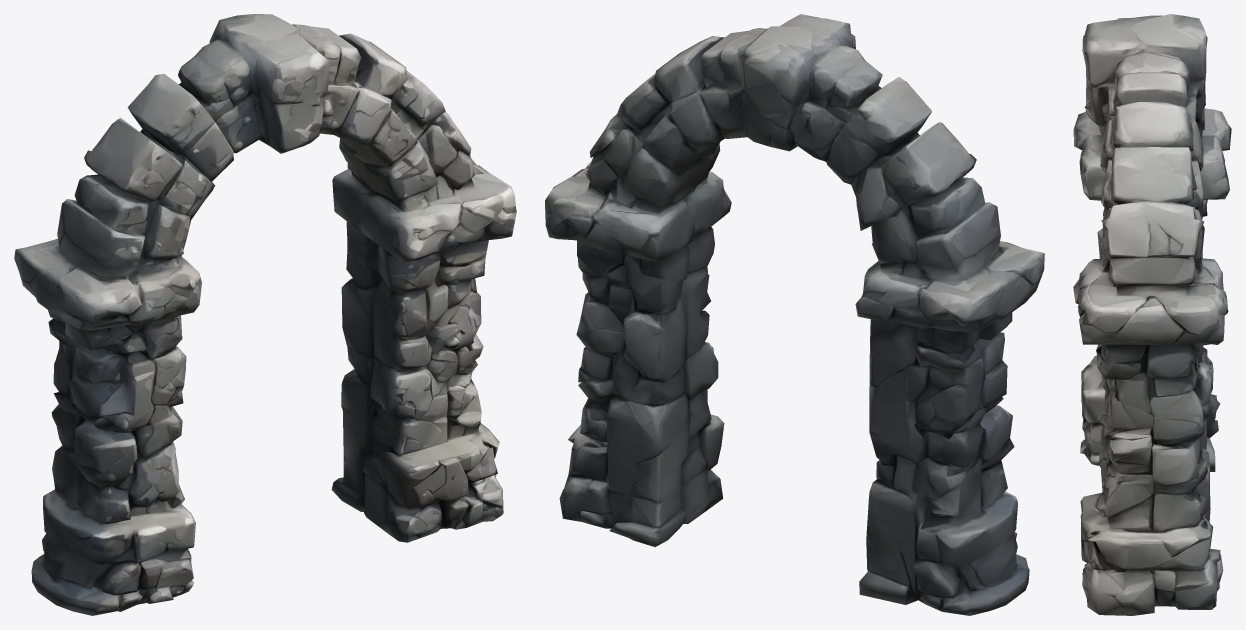
Rendered from doorframe_from_storm-proof.glb.
3 views of the same model, side by side, from view 1: azimuth 30°, elevation 25°; view 2: azimuth 150°, elevation 25°; view 3: azimuth 270°, elevation 25° (orthographic). The views are drawn at different scales.
Parts seen in each view (by area): view 1: tripo_node_1bb3f130-dcaf-4c01-9aee-be55a694fe17; view 2: tripo_node_1bb3f130-dcaf-4c01-9aee-be55a694fe17; view 3: tripo_node_1bb3f130-dcaf-4c01-9aee-be55a694fe17.
Boxes of the visible parts, left/top/right/bottom form: tripo_node_1bb3f130-dcaf-4c01-9aee-be55a694fe17: left=14, top=14, right=516, bottom=615; tripo_node_1bb3f130-dcaf-4c01-9aee-be55a694fe17: left=545, top=14, right=1044, bottom=615; tripo_node_1bb3f130-dcaf-4c01-9aee-be55a694fe17: left=1073, top=14, right=1231, bottom=615.
Size of the model in its own units: 0.9034 by 1 by 0.2912.
1 material, 1 textured.
